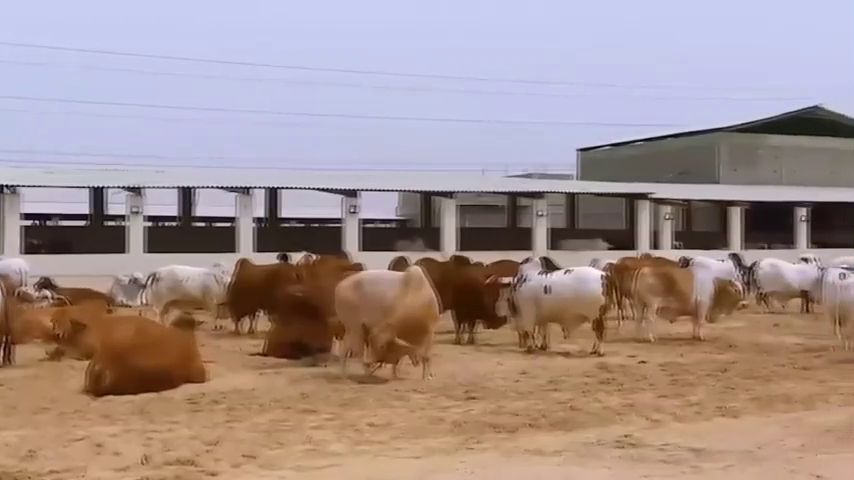bo: (324, 264, 453, 385), (502, 268, 620, 366), (630, 258, 753, 351), (80, 311, 209, 394), (416, 255, 516, 349), (133, 252, 234, 335), (214, 240, 304, 333), (43, 298, 168, 364), (250, 277, 339, 367), (739, 237, 826, 318), (800, 259, 854, 349), (33, 269, 102, 312), (2, 292, 46, 353), (102, 257, 146, 312), (2, 255, 37, 293)
